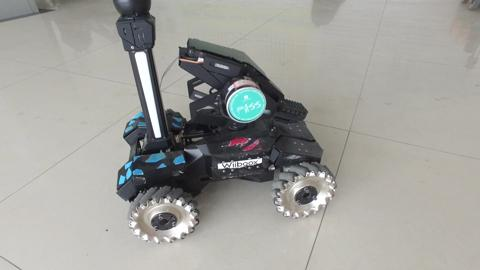chariot: (111, 1, 337, 244)
